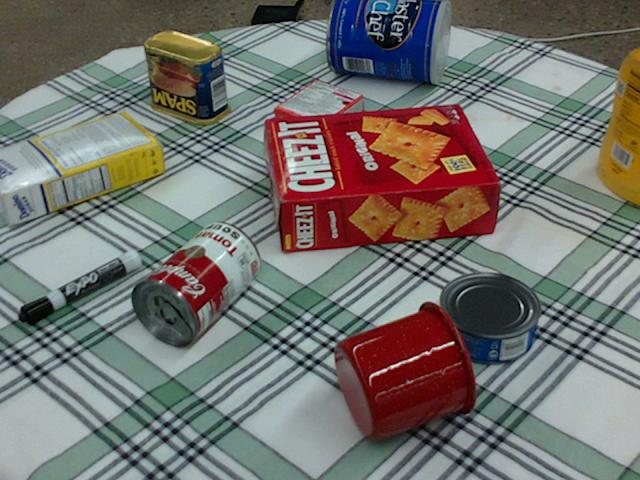cracker_box: (268, 104, 499, 251)
gelatin_box: (272, 77, 362, 144)
large_marker: (16, 249, 139, 325)
master_chef_can: (326, 0, 448, 82)
mug: (333, 297, 479, 442)
mustard_bottle: (596, 46, 639, 205)
potted_meat_can: (143, 31, 229, 124)
sugar_box: (0, 112, 162, 224)
tomato_soup_can: (130, 219, 260, 345)
tuna_fish_can: (439, 271, 542, 363)
